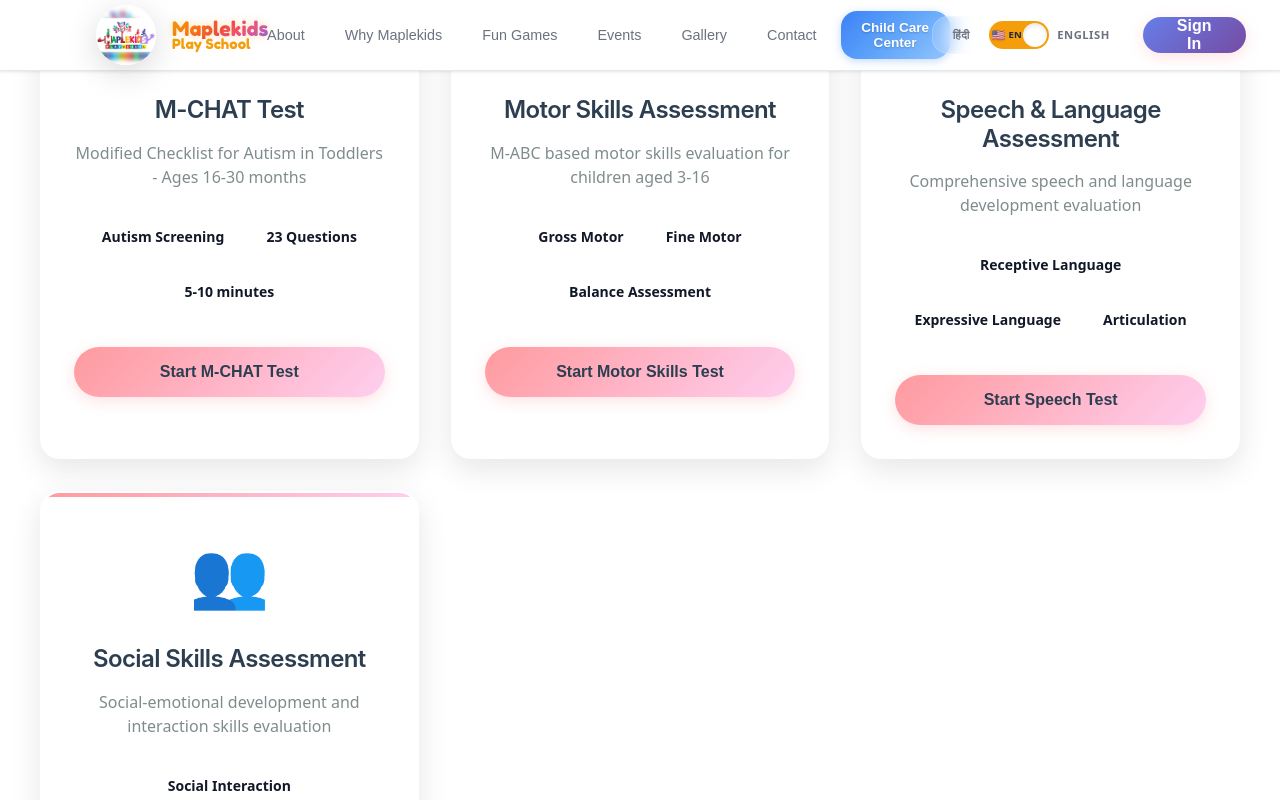
Test: ChildCareCenter Component › Speech & Language Test Functionality › shows frequency-based answer options
The image size is (1280, 800).
(page scrolled)
Step 1. Click the button "Start Speech Test" → [1051, 400], box [895,375,1206,425]
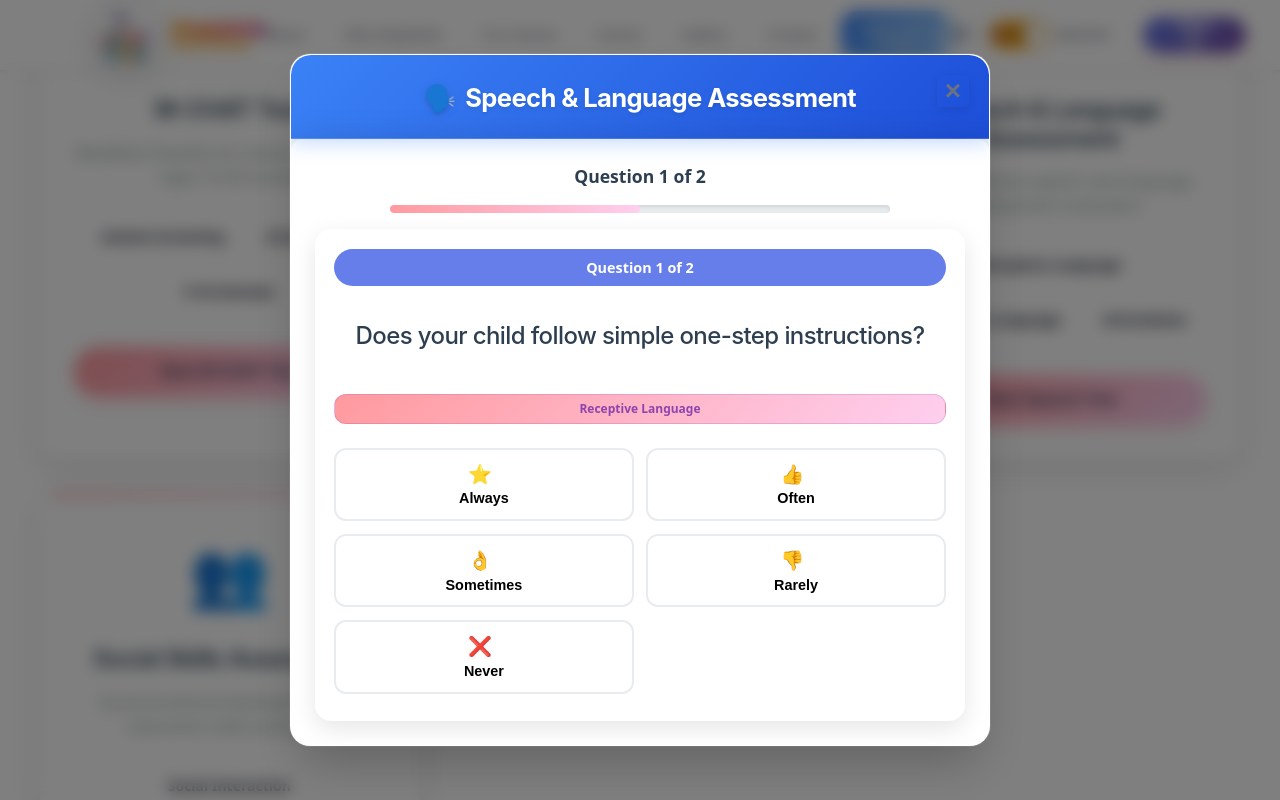
Check: the button "⭐ Always" is shown, box [334,448,634,521]
Check: the button "👍 Often" is shown, box [646,448,946,521]
Check: the button "👌 Sometimes" is shown, box [334,534,634,607]
